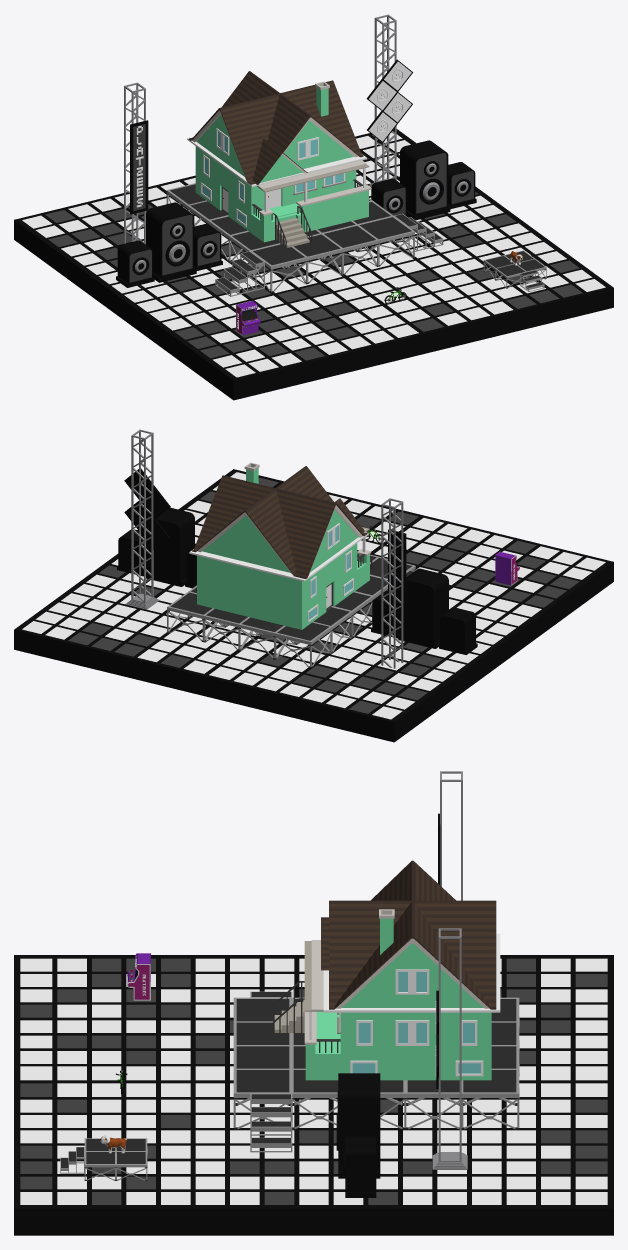
3 views of the same model, one above another, from view 1: azimuth 30°, elevation 25°; view 2: azimuth 150°, elevation 25°; view 3: azimuth 270°, elevation 25° (orthographic). The views are drawn at different scales.
Parts seen in each view (by area): view 1: Cube.008, Cube.352, OBJRANDOM_ARCADE; view 2: Cube.008, Cube.352, OBJRANDOM_ARCADE; view 3: Cube.008, Cube.352, OBJRANDOM_ARCADE.
Part boxes in pixels (x1,y1,x2,y2): Cube.008: (14, 14, 613, 400); Cube.352: (187, 71, 371, 248); OBJRANDOM_ARCADE: (236, 300, 260, 335); Cube.008: (14, 429, 613, 742); Cube.352: (189, 462, 372, 629); OBJRANDOM_ARCADE: (495, 551, 519, 585); Cube.008: (14, 771, 613, 1235); Cube.352: (272, 860, 500, 1080); OBJRANDOM_ARCADE: (127, 953, 150, 1000).
Bounding box in the file's own units: 4000 × 1922 × 4000.
Materials: 45 (2 with a texture image).
